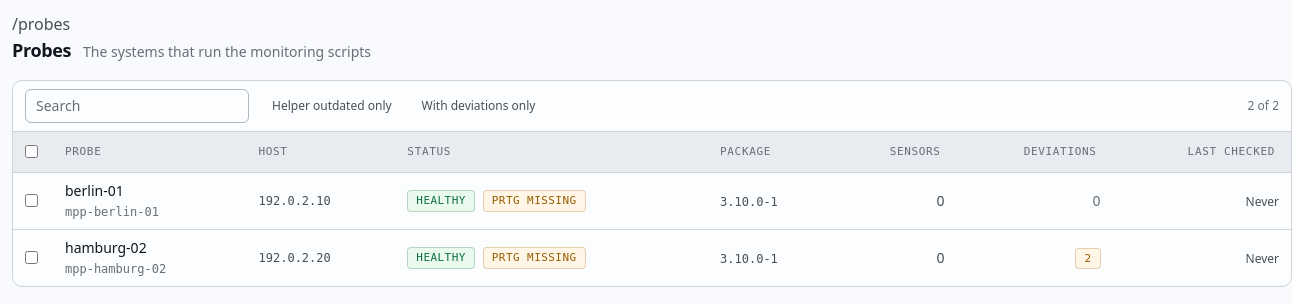
Scenario: the search box of the fleet › puts the term in the address and hands it to the row it opens
Step 1. Type "hamburg" into the search field labelled "Search" → point(137, 106), box [25,89,249,123]
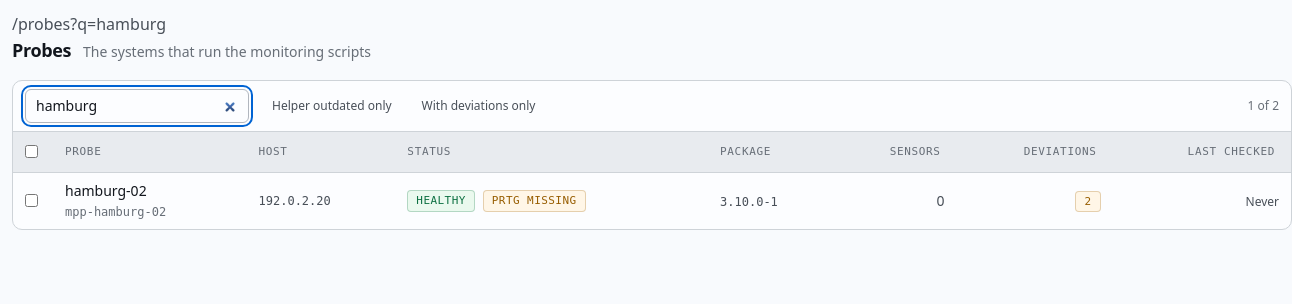
Expected: the text with test id "address" reads "/probes?q=hamburg", [12,13,166,35]
One row left, and following it keeps the term for the way back.
Step 2. Click the link "hamburg-02 mpp-hamburg-02" → point(116, 200), box [65,181,166,219]
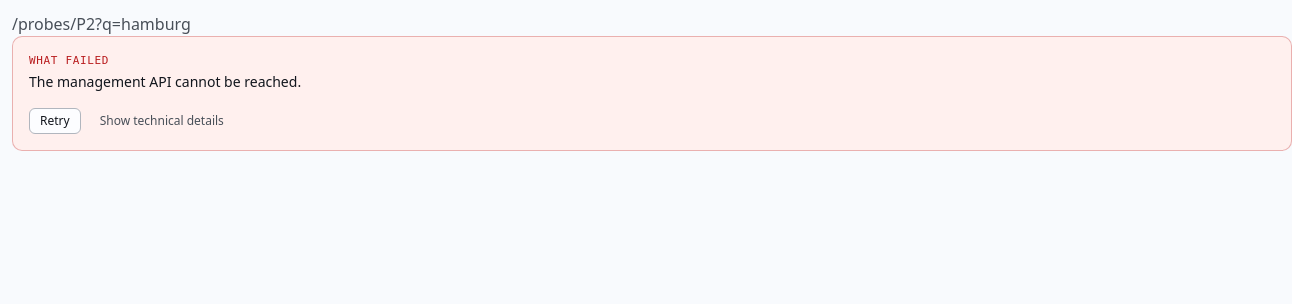
Expected: the text with test id "address" reads "/probes/P2?q=hamburg", [12,13,191,35]
